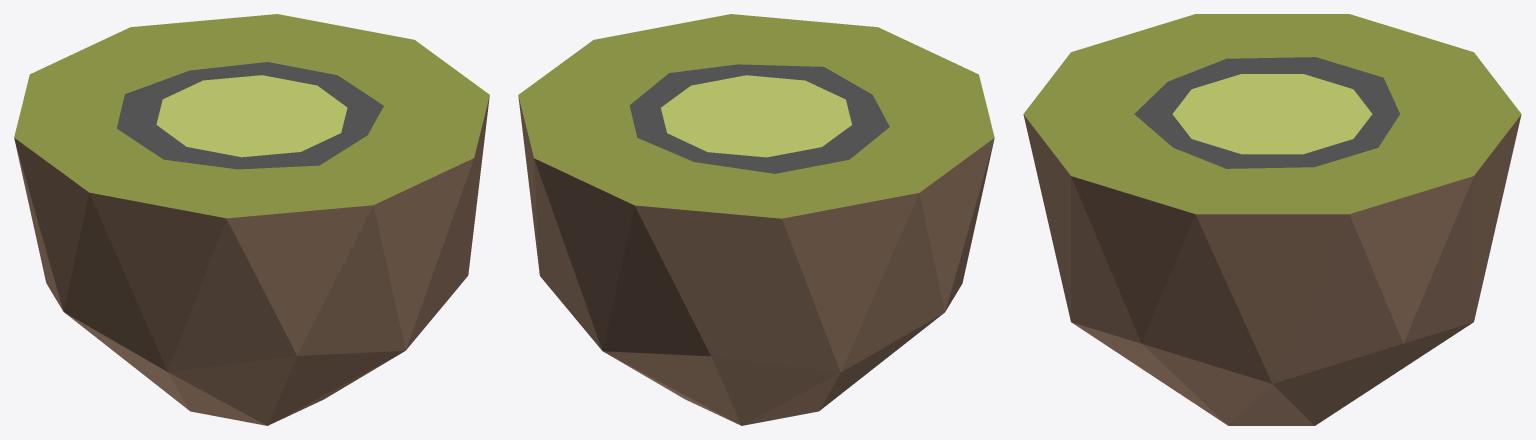
Rendered from Kiwi_02.fbx.
3 renders of one model, left to right at view 1: azimuth 30°, elevation 25°; view 2: azimuth 150°, elevation 25°; view 3: azimuth 270°, elevation 25°, orthographic. The views are drawn at different scales.
Parts seen in each view (by area): view 1: Kiwi_02; view 2: Kiwi_02; view 3: Kiwi_02.
Part boxes in pixels (bbox=[...]): Kiwi_02: bbox=[14, 14, 489, 425]; Kiwi_02: bbox=[518, 14, 994, 425]; Kiwi_02: bbox=[1023, 14, 1521, 425].
Size of the model in its own units: 6.22 by 4.3 by 6.54.
